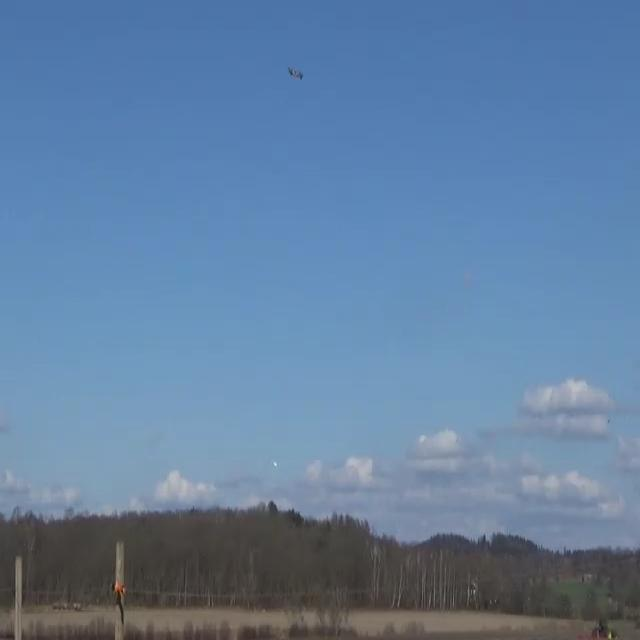Drone: (278, 50, 308, 94), (271, 456, 284, 475)
